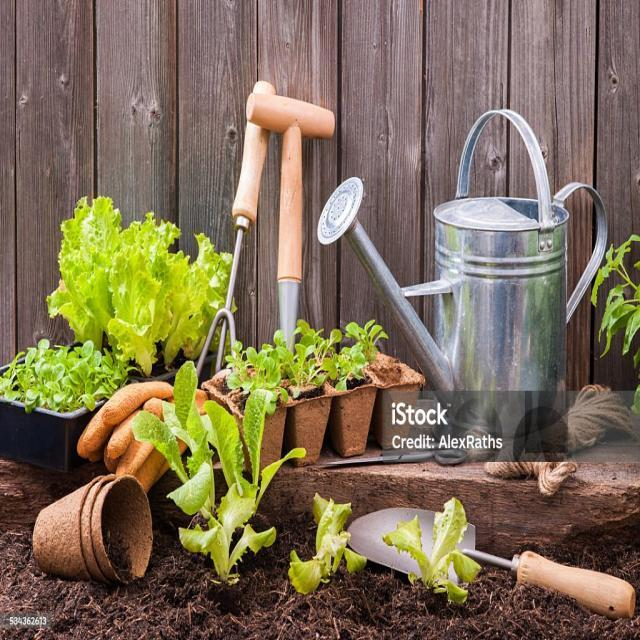Lettuce-Not-Ready-to-Harvest: (167, 463, 279, 589), (379, 492, 490, 611), (285, 491, 371, 599)
Lettuce-Ready-to-Harvest: (47, 194, 129, 355), (108, 221, 186, 376), (177, 232, 243, 360)
